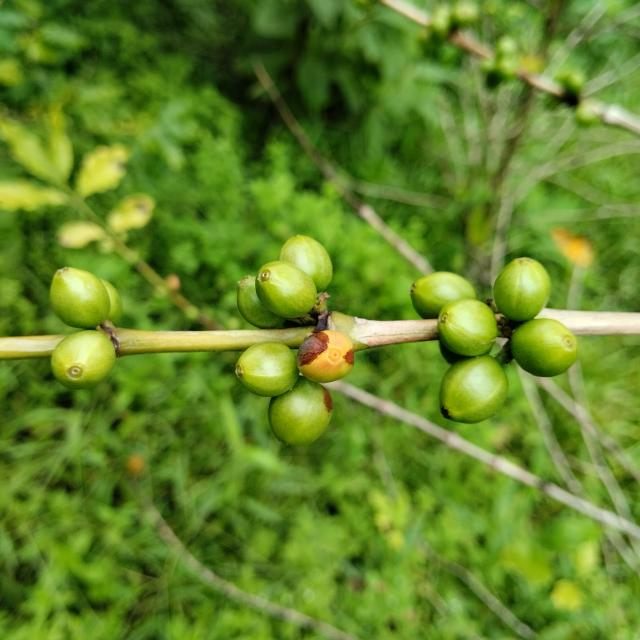green: (440, 355, 509, 424), (268, 376, 333, 447), (511, 318, 579, 377), (50, 330, 115, 390), (49, 267, 110, 329), (494, 257, 552, 322), (255, 260, 317, 318), (235, 342, 299, 397), (438, 299, 498, 356), (410, 271, 477, 319), (278, 235, 333, 292), (237, 275, 286, 329), (100, 279, 122, 325)
red: (296, 330, 354, 383)
